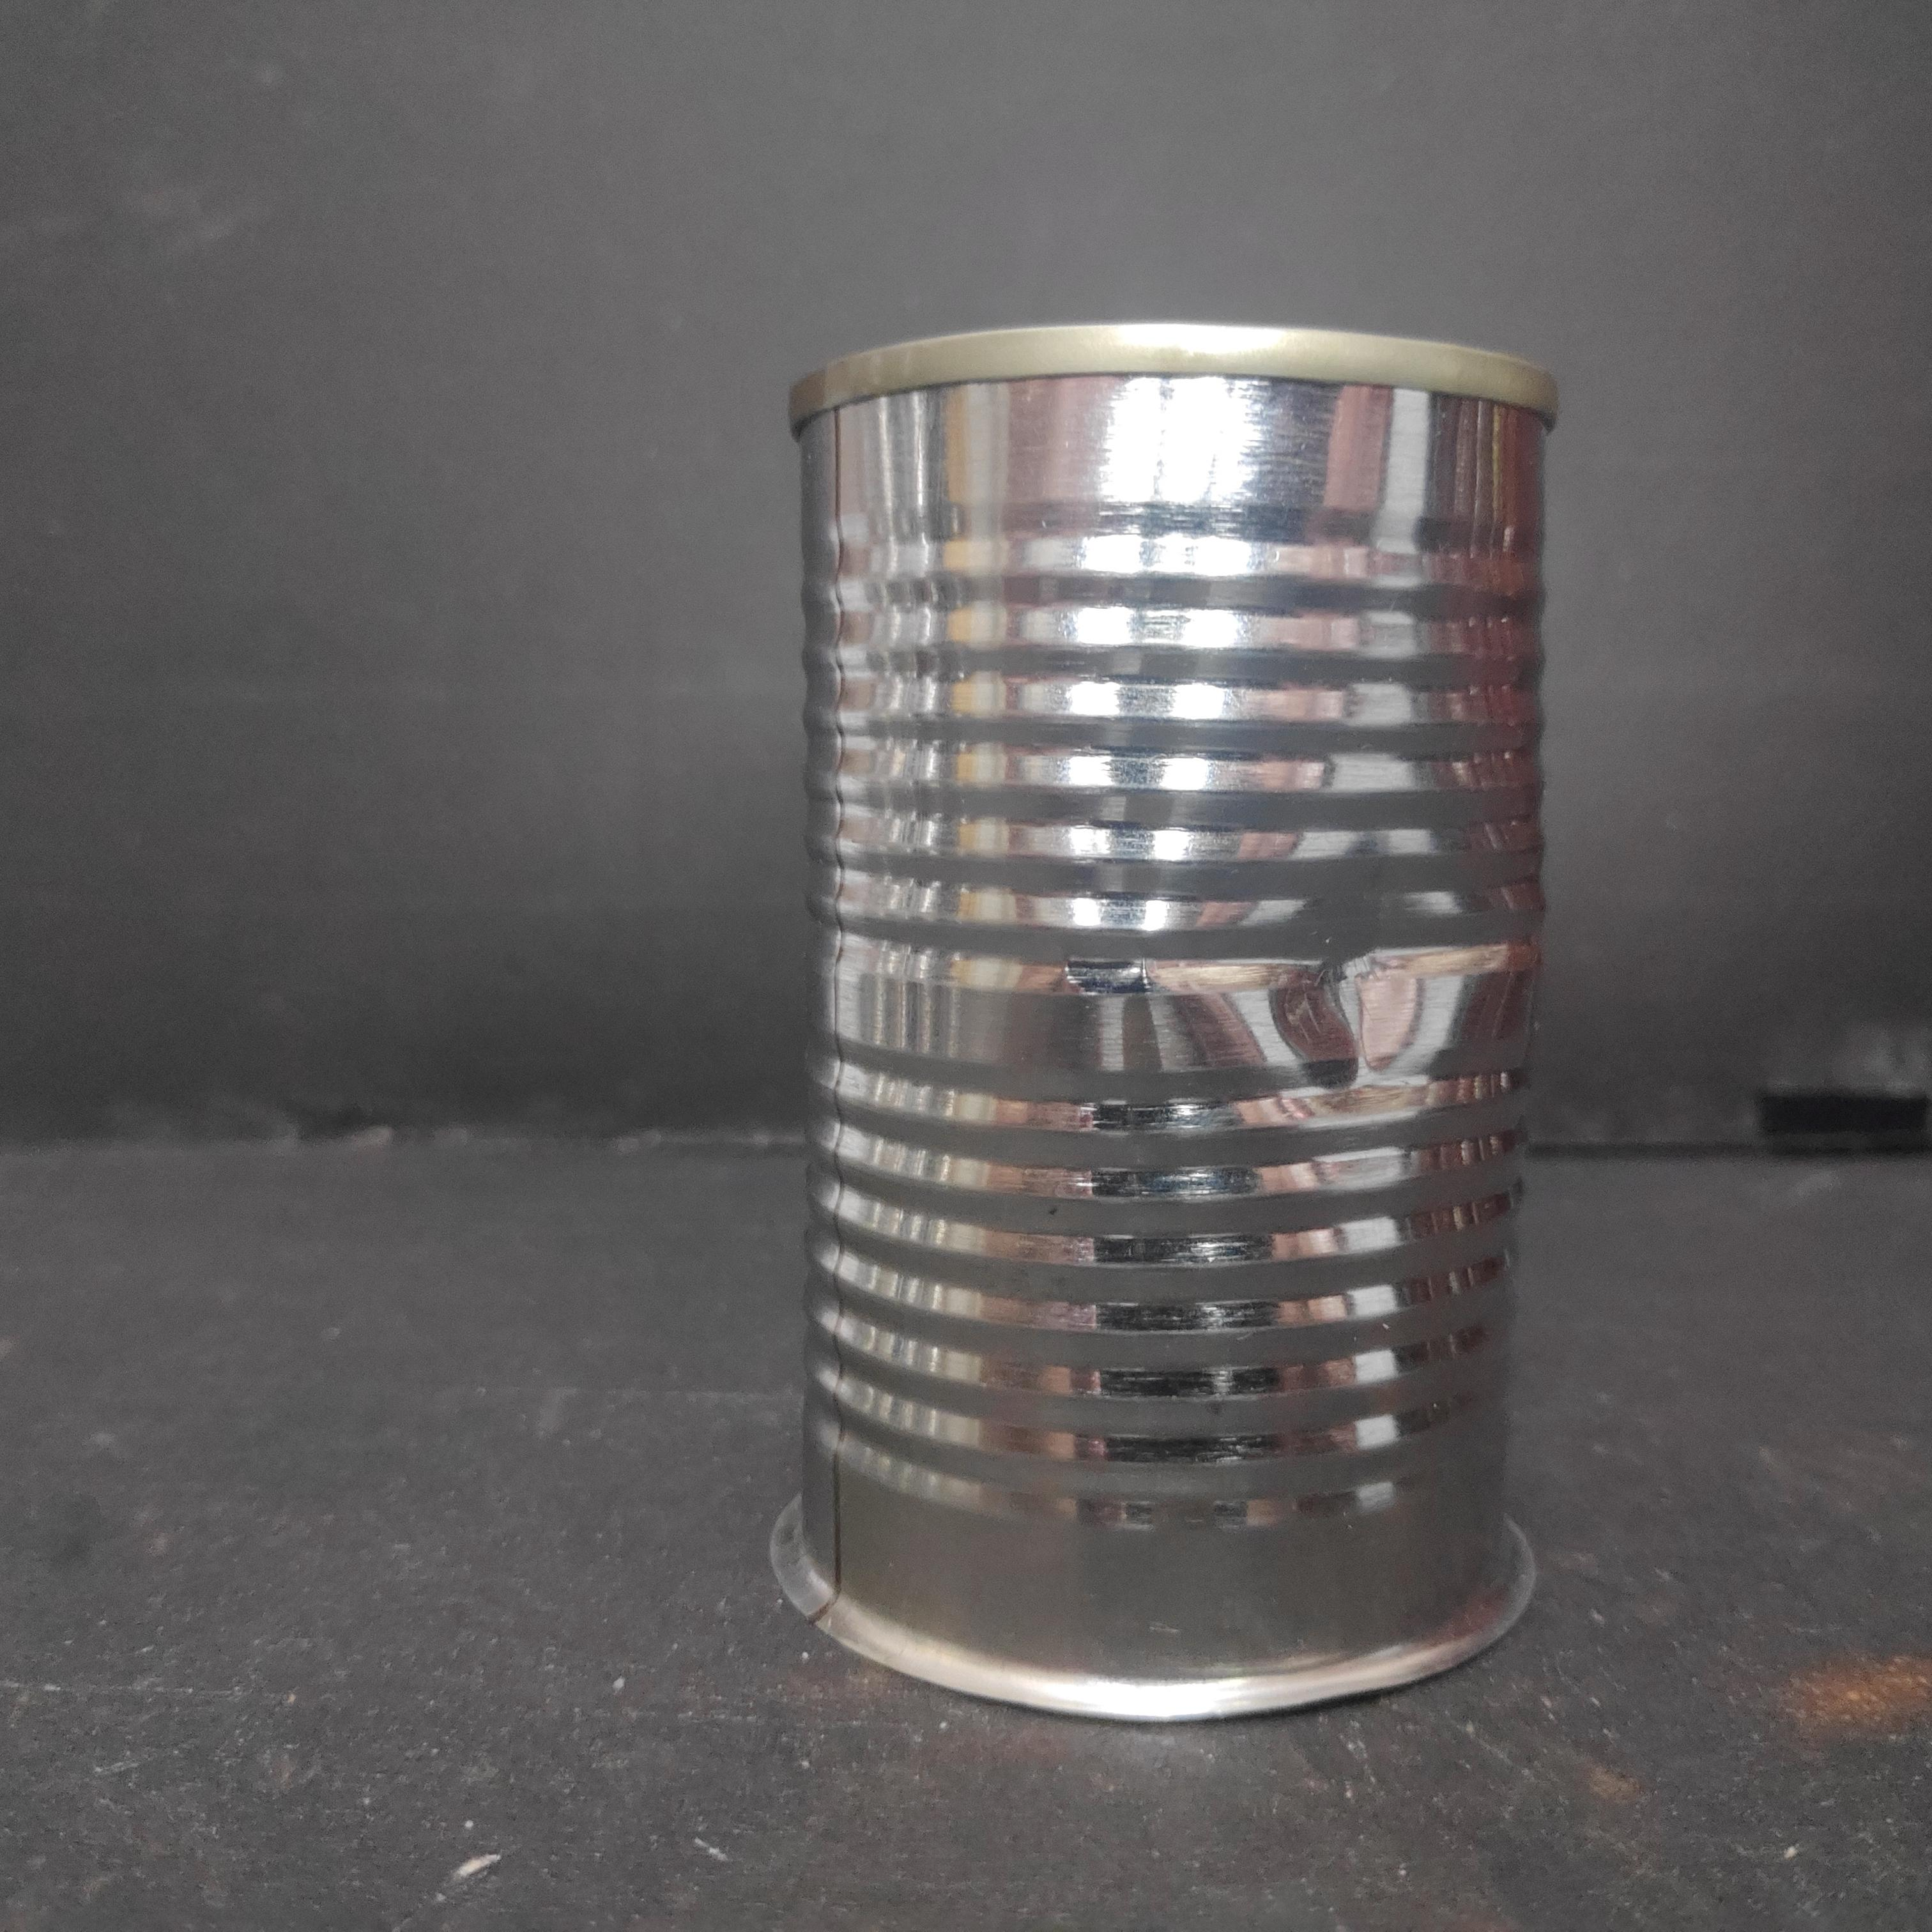Minor Defect: (774, 307, 1571, 1740)
